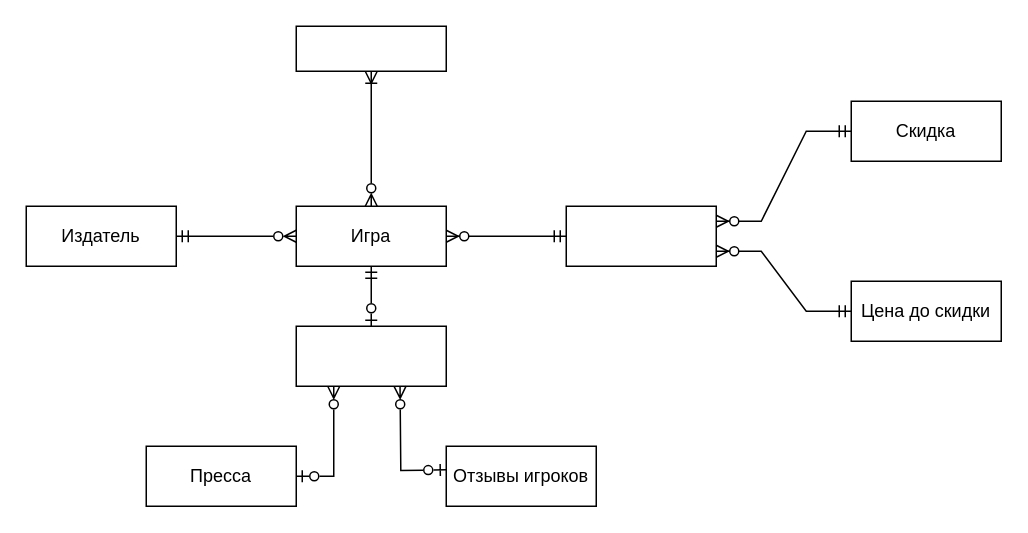
Image size: 1028x533. Some labels were removed from this diagram. The shapes that lost their labels are listed below. From the top down, each one's box as (x1, y1, x2, y2) in pixels, then its label:
(295, 25, 446, 71): Жанры
(565, 205, 716, 266): Цена
(295, 325, 446, 386): Оценка
